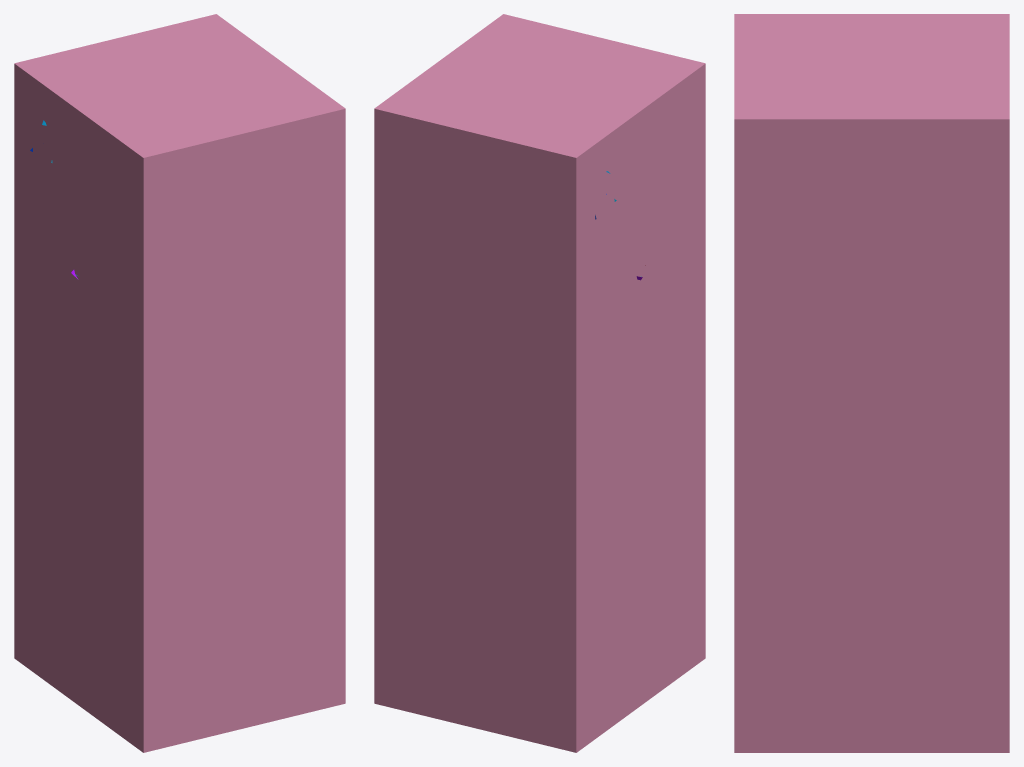
File: tree_beech_forest_a.dae
The picture shows the model from 3 angles, left to right: view 1: azimuth 30°, elevation 25°; view 2: azimuth 150°, elevation 25°; view 3: azimuth 270°, elevation 25°; orthographic projection. The views are drawn at different scales.
Parts seen in each view (by area): view 1: Untitled; view 2: Untitled; view 3: Untitled.
Part boxes in pixels (x1=…): Untitled: x1=14, y1=14, x2=345, y2=752; Untitled: x1=374, y1=14, x2=705, y2=752; Untitled: x1=734, y1=14, x2=1009, y2=752.
Bounding box in the file's own units: 6.03 × 6.52 × 16.77.
